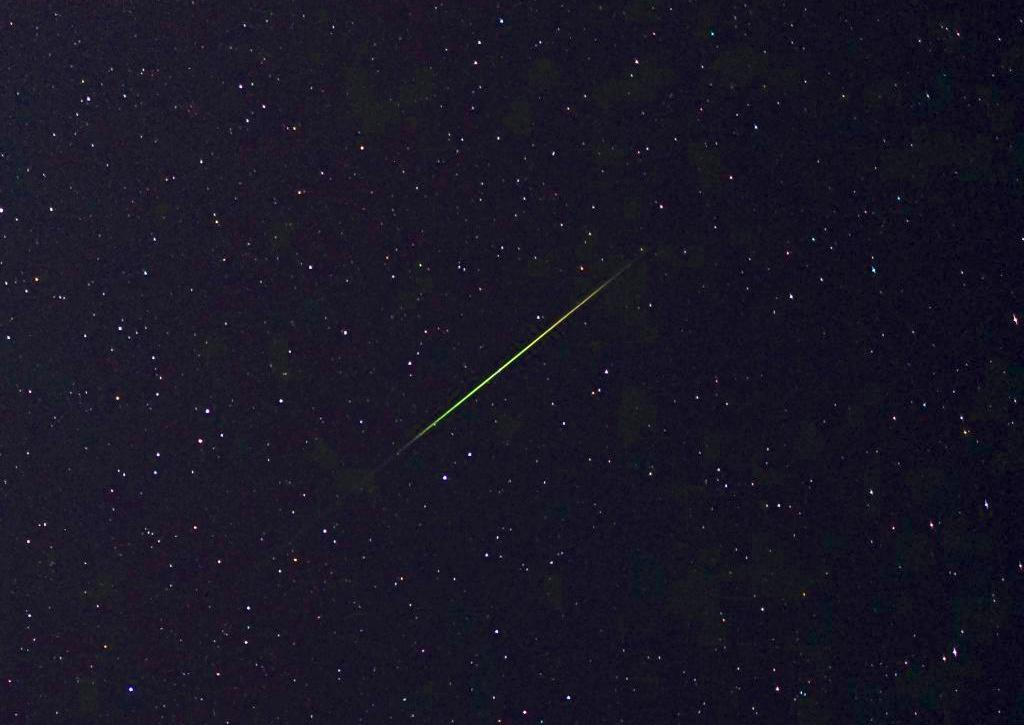meteorite: (343, 271, 636, 479)
